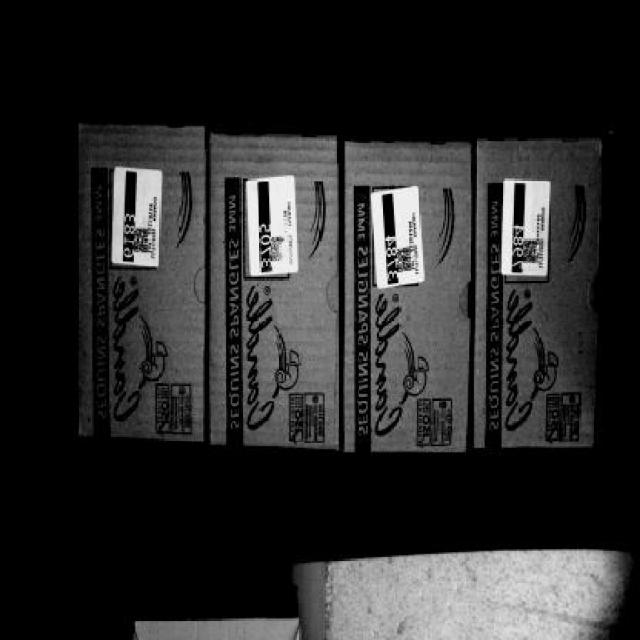cardboxes: (471, 134, 600, 452), (339, 143, 472, 449), (74, 123, 204, 435), (207, 138, 336, 442)
